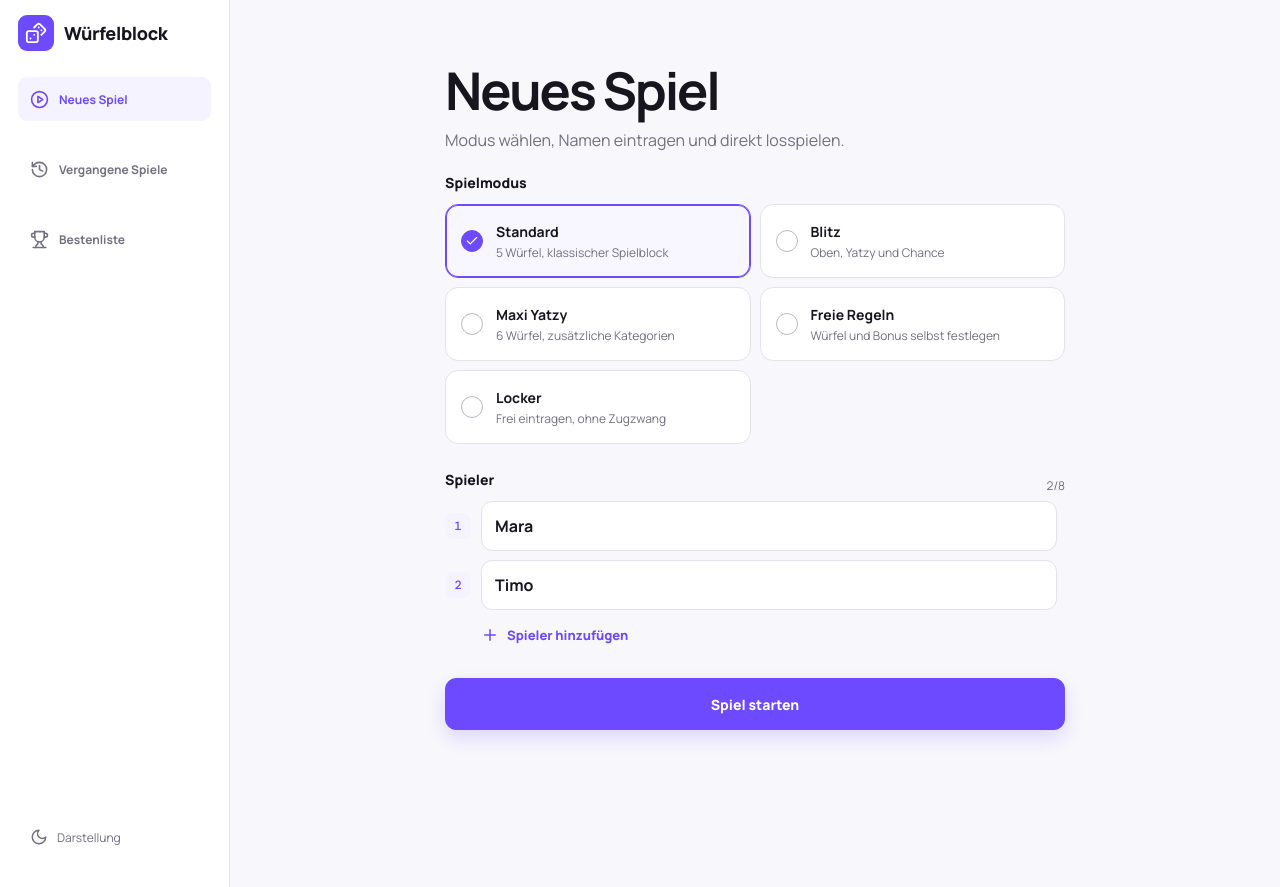
it: complete gameplay › accepts an arbitrary whole-number score for chance
Click the button "Spiel starten" at (755, 704), box [445, 678, 1065, 730]
(page scrolled)
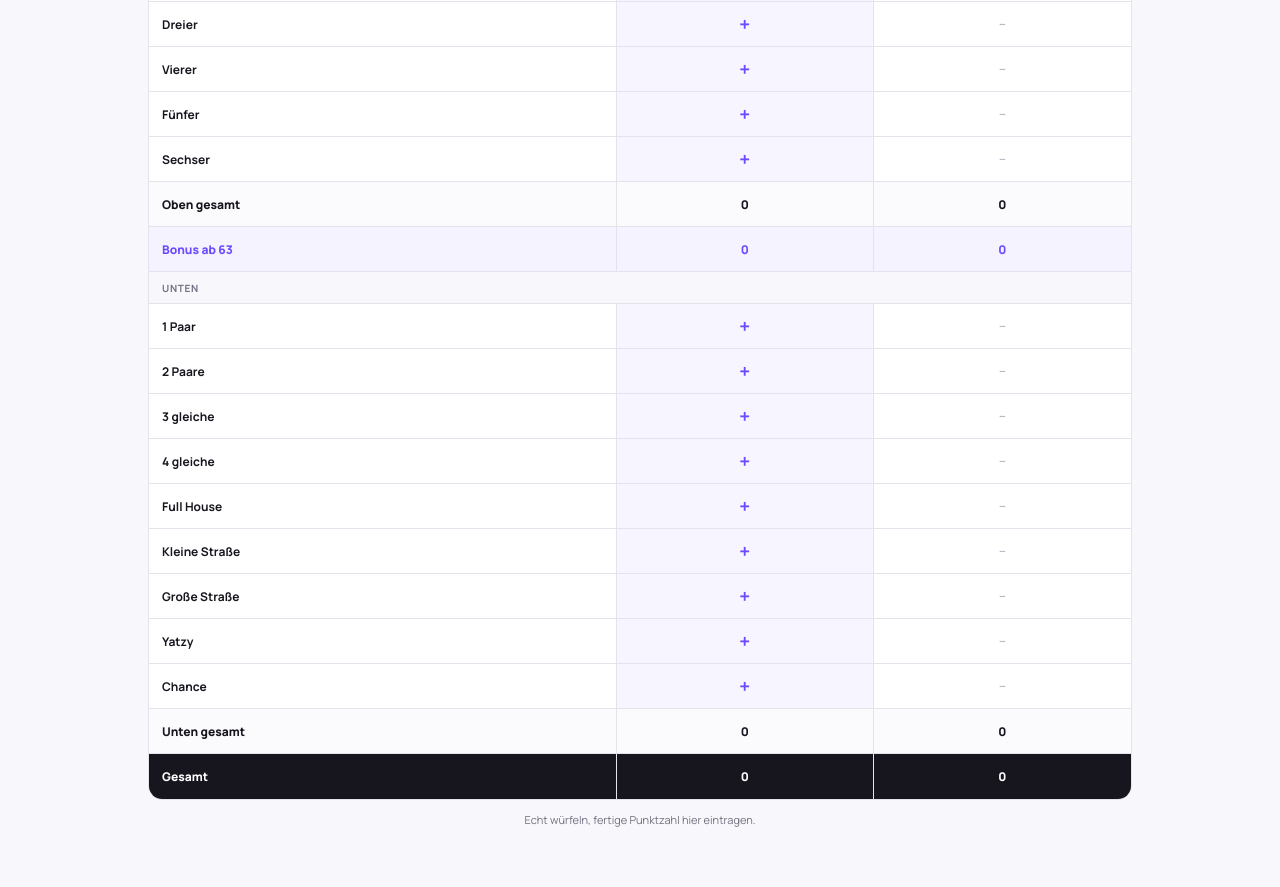
Click the button "+" in the row of "Chance" at (745, 686), box [617, 664, 873, 708]
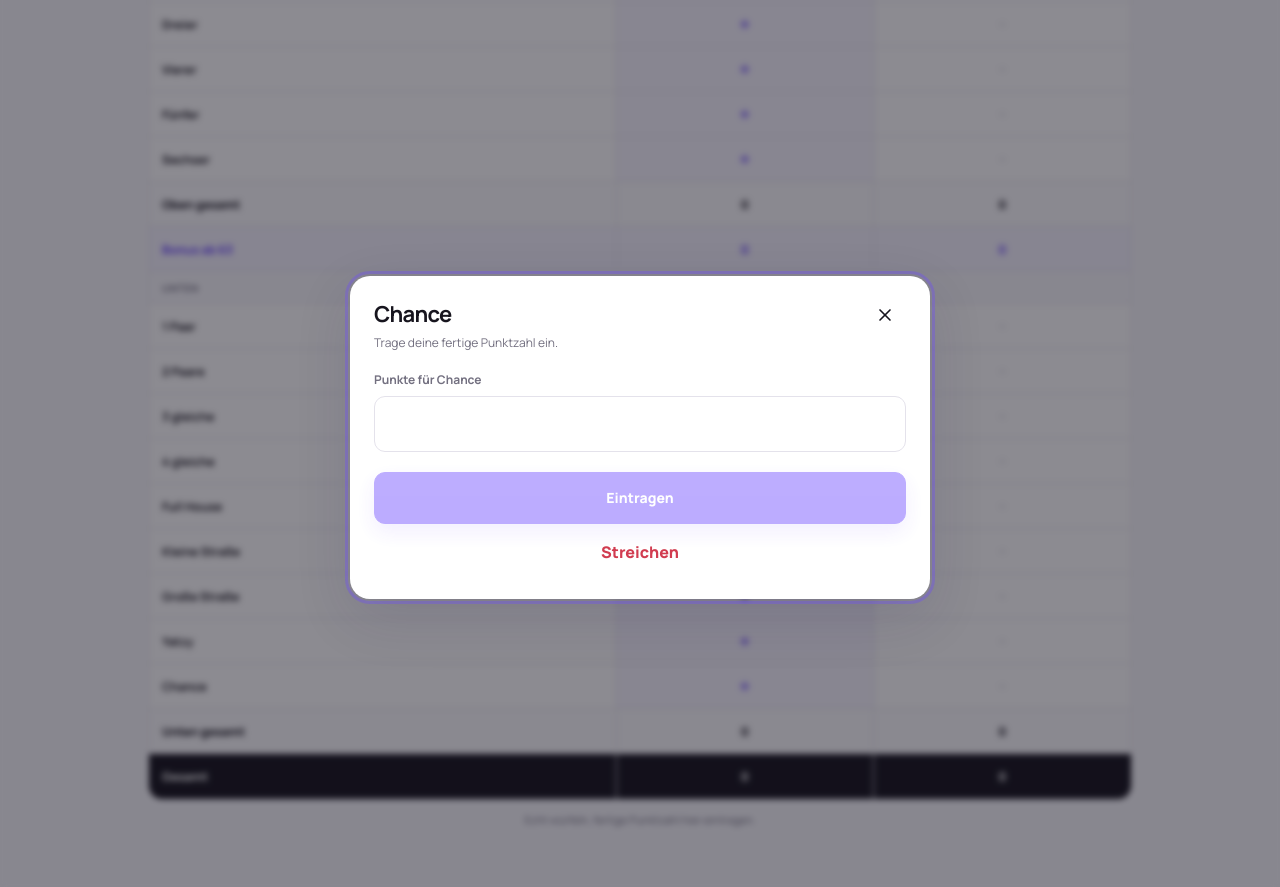
Expected: the number field labelled "Punkte für Chance" is shown
Type "137" into the number field labelled "Punkte für Chance" at (640, 424), box [374, 396, 906, 452]
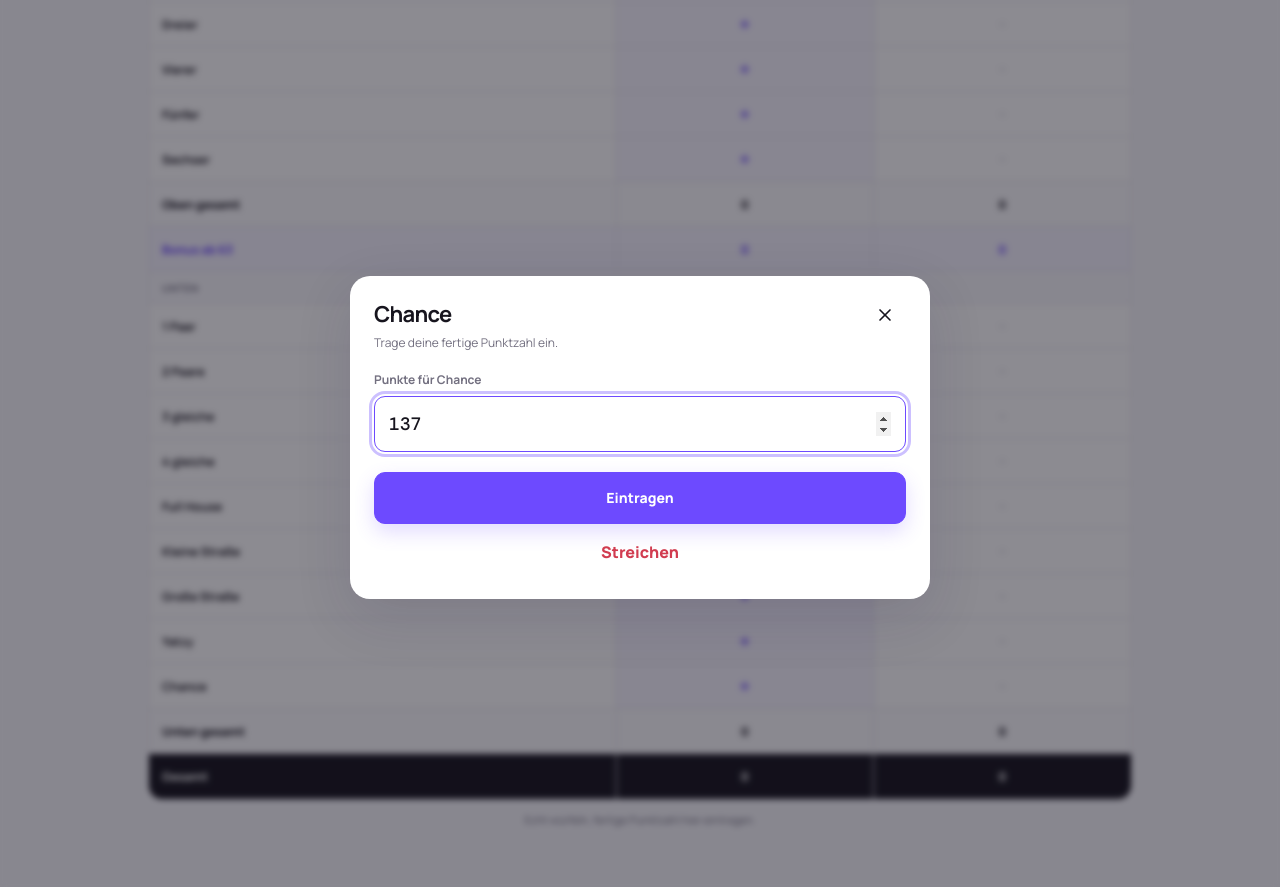
Click the button "Eintragen" at (640, 498), box [374, 472, 906, 524]
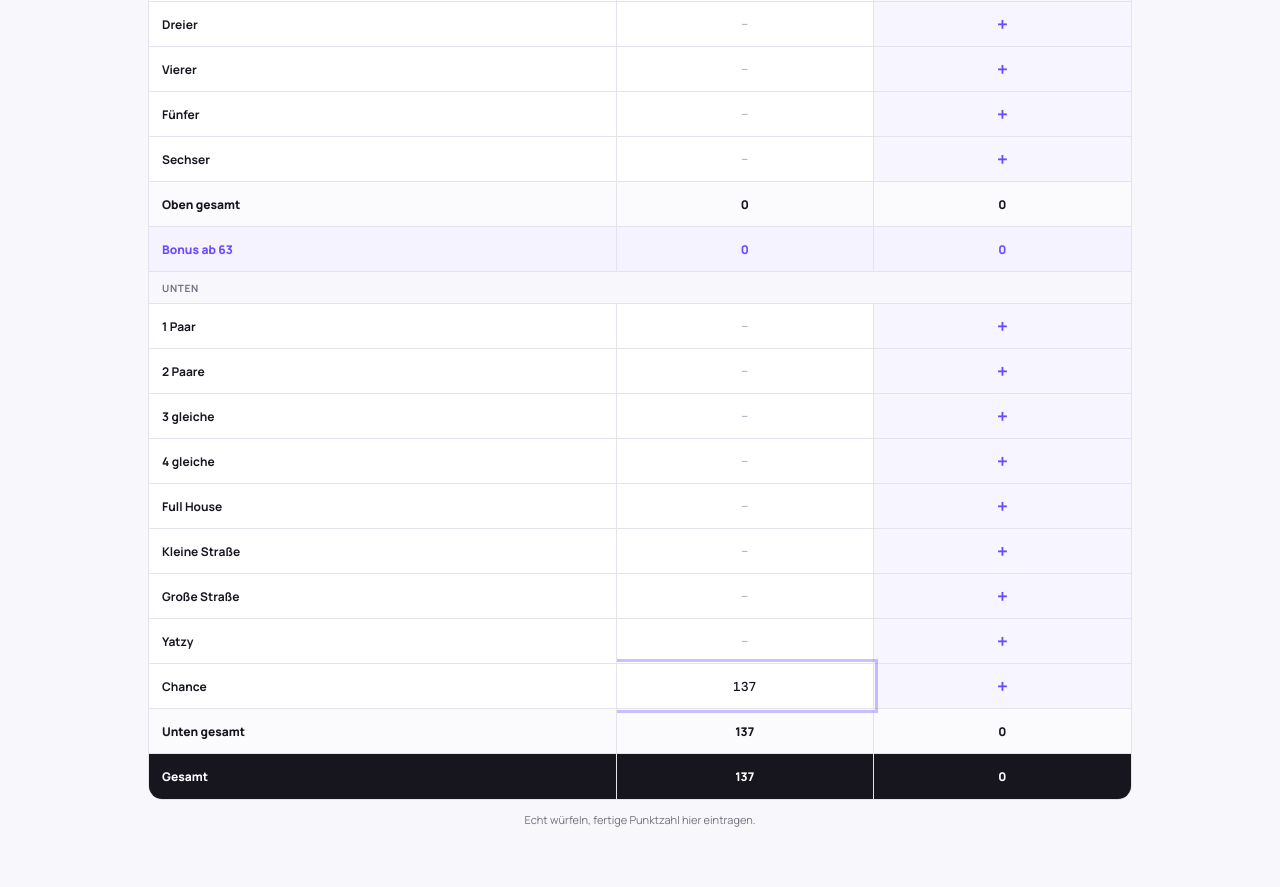
Expected: the button "137" is shown, [617, 664, 873, 708]
